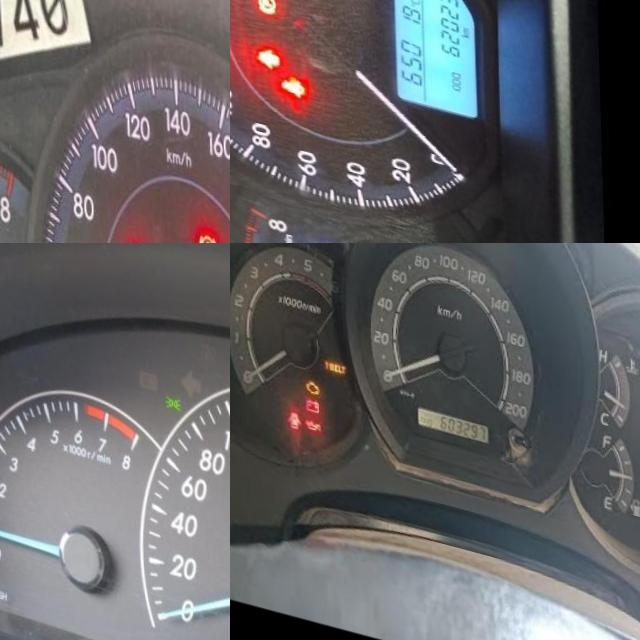Seat Belt: (276, 60, 304, 85), (124, 224, 143, 243)
